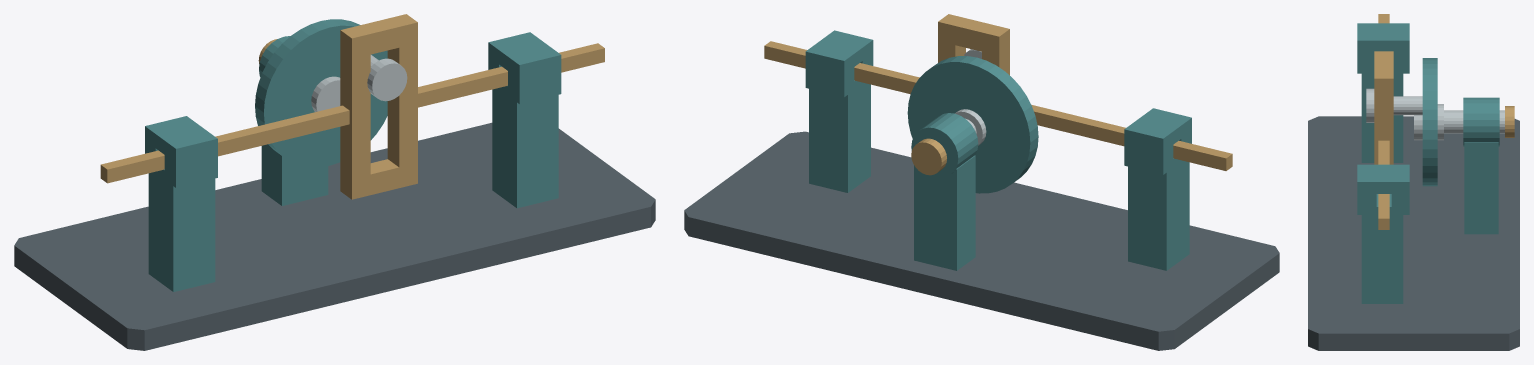
The picture shows the model from 3 angles, left to right: view 1: azimuth 30°, elevation 25°; view 2: azimuth 150°, elevation 25°; view 3: azimuth 270°, elevation 25°; orthographic projection. The views are drawn at different scales.
Parts seen in each view (by area): view 1: WholeGroundedDisplayBed, WholeVerticalSlotAndTwinIntegralStems, LeftWholeBoredGuidePedestal, RightWholeBoredGuidePedestal, WholeRearCrankDisc, WholeRearBearingFoot, WholeFrontPinRetainingHead, WholeCentralDiscBoss; view 2: WholeGroundedDisplayBed, WholeRearCrankDisc, RightWholeBoredGuidePedestal, LeftWholeBoredGuidePedestal, WholeVerticalSlotAndTwinIntegralStems, WholeRearBearingFoot, WholeRearBoredBearing, WholeRearSpindleRetainingCap; view 3: WholeGroundedDisplayBed, RightWholeBoredGuidePedestal, LeftWholeBoredGuidePedestal, WholeRearBearingFoot, WholeVerticalSlotAndTwinIntegralStems, WholeRearCrankDisc, WholeRearBoredBearing, WholeRearTransverseSpindle, WholeOffsetPinThroughVerticalSlot, WholeCentralDiscBoss, WholeRearSpindleRetainingCap, WholeFrontPinRetainingHead.
Boxes of the visible parts, x1,y1,x2,y2 form: WholeGroundedDisplayBed: [14, 122, 655, 350]; WholeVerticalSlotAndTwinIntegralStems: [100, 14, 604, 199]; LeftWholeBoredGuidePedestal: [145, 116, 217, 291]; RightWholeBoredGuidePedestal: [488, 32, 561, 208]; WholeRearCrankDisc: [255, 19, 387, 167]; WholeRearBearingFoot: [261, 144, 328, 205]; WholeFrontPinRetainingHead: [367, 58, 407, 101]; WholeCentralDiscBoss: [311, 76, 340, 111]; WholeGroundedDisplayBed: [684, 131, 1279, 350]; WholeRearCrankDisc: [907, 56, 1038, 193]; RightWholeBoredGuidePedestal: [805, 30, 873, 192]; LeftWholeBoredGuidePedestal: [1124, 108, 1191, 270]; WholeVerticalSlotAndTwinIntegralStems: [764, 14, 1232, 170]; WholeRearBearingFoot: [914, 155, 975, 270]; WholeRearBoredBearing: [911, 113, 978, 177]; WholeRearSpindleRetainingCap: [911, 138, 946, 175]; WholeGroundedDisplayBed: [1308, 116, 1519, 350]; RightWholeBoredGuidePedestal: [1357, 164, 1409, 303]; LeftWholeBoredGuidePedestal: [1357, 23, 1409, 162]; WholeRearBearingFoot: [1464, 142, 1498, 234]; WholeVerticalSlotAndTwinIntegralStems: [1374, 14, 1393, 229]; WholeRearCrankDisc: [1422, 58, 1437, 186]; WholeRearBoredBearing: [1463, 97, 1499, 146]; WholeRearTransverseSpindle: [1444, 110, 1504, 133]; WholeOffsetPinThroughVerticalSlot: [1393, 96, 1422, 115]; WholeCentralDiscBoss: [1414, 104, 1443, 140]; WholeRearSpindleRetainingCap: [1505, 106, 1514, 137]; WholeFrontPinRetainingHead: [1366, 88, 1374, 122].
Bounding box in the file's own units: 2.4 × 0.97 × 0.99.
